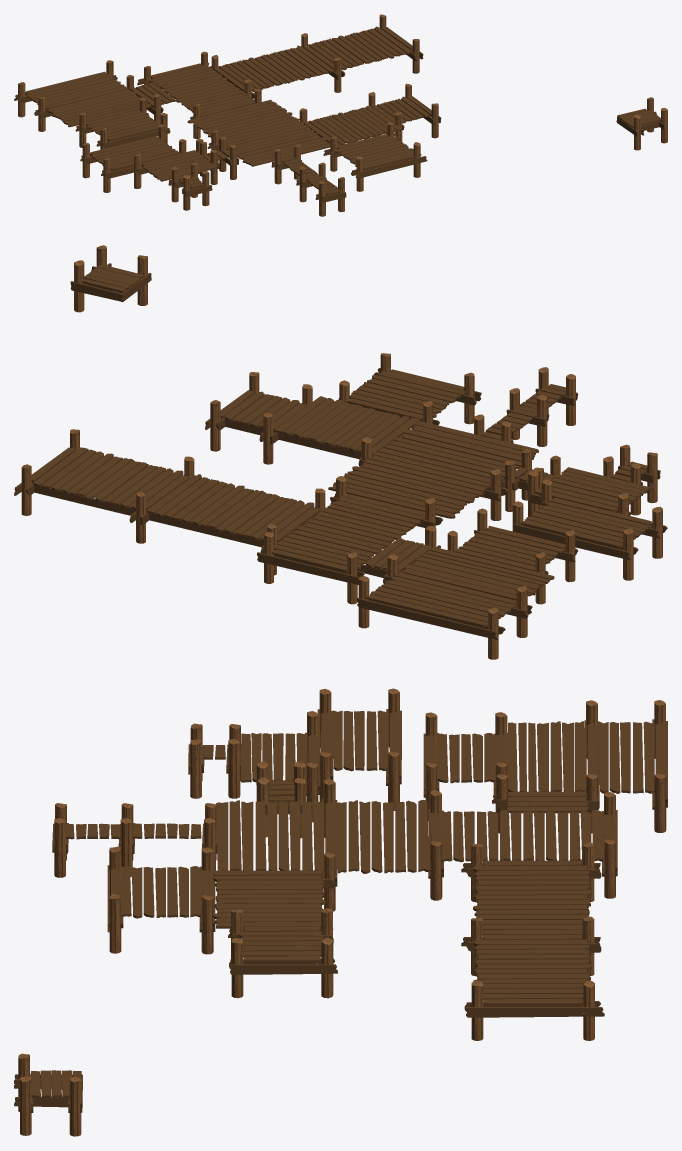
Rendered from Dock_F.fbx.
The picture shows the model from 3 angles, top to bottom: view 1: azimuth 30°, elevation 25°; view 2: azimuth 150°, elevation 25°; view 3: azimuth 270°, elevation 25°; orthographic projection. The views are drawn at different scales.
Parts seen in each view (by area): view 1: polySurface568; view 2: polySurface568; view 3: polySurface568.
Boxes of the visible parts, left/top/right/bottom form: polySurface568: left=14, top=14, right=667, bottom=216; polySurface568: left=14, top=245, right=667, bottom=659; polySurface568: left=14, top=688, right=667, bottom=1136.
Bounding box in the file's own units: 87.56 × 5.76 × 61.2.
